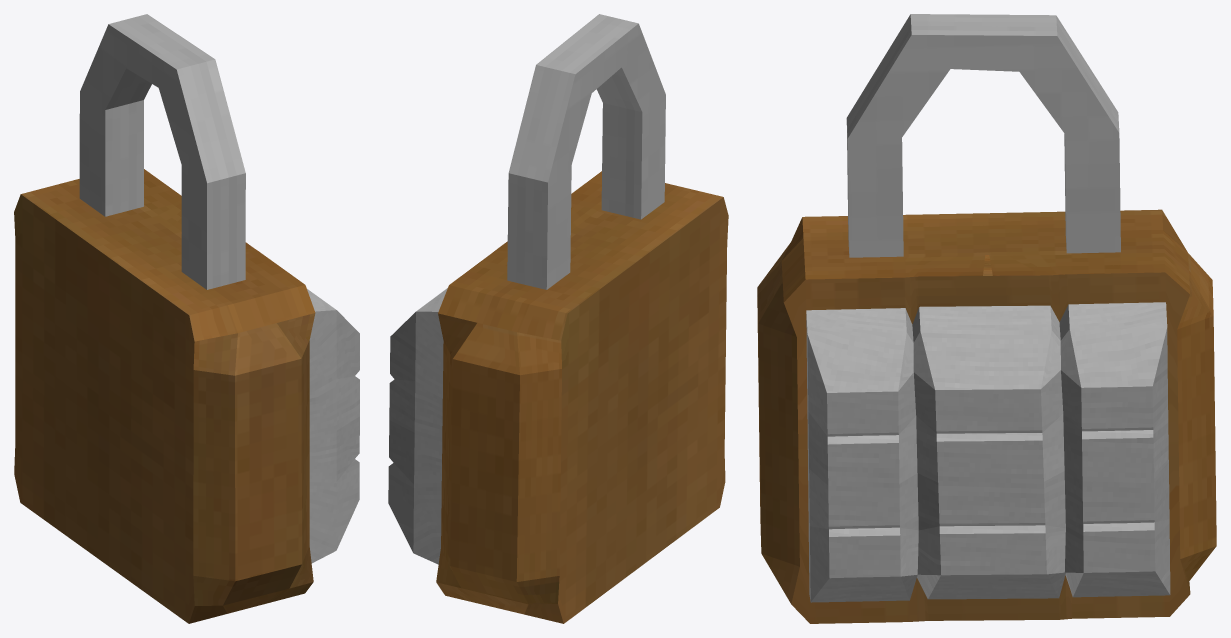
The model's file is CandadoCombinacion.fbx.
3 views of the same model, side by side, from view 1: azimuth 30°, elevation 25°; view 2: azimuth 150°, elevation 25°; view 3: azimuth 270°, elevation 25° (orthographic). The views are drawn at different scales.
Parts seen in each view (by area): view 1: Candado; view 2: Candado; view 3: Candado.
Boxes of the visible parts, <box> form: Candado: <box>14,14,359,623</box>; Candado: <box>388,14,728,623</box>; Candado: <box>757,14,1216,623</box>.
Bounding box in the file's own units: 4.91 × 12.71 × 9.35.
2 materials, 2 textured.
